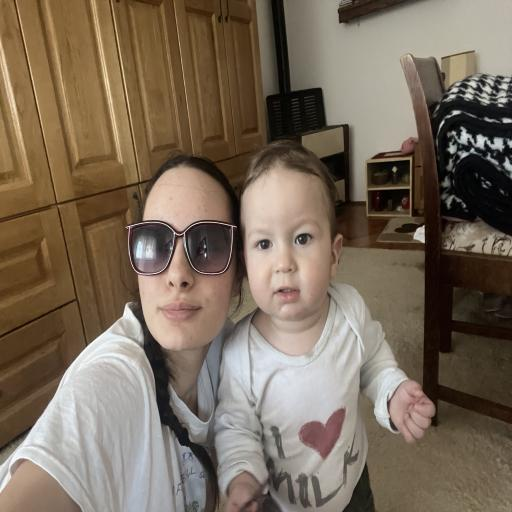marija: (135, 173, 238, 353)
